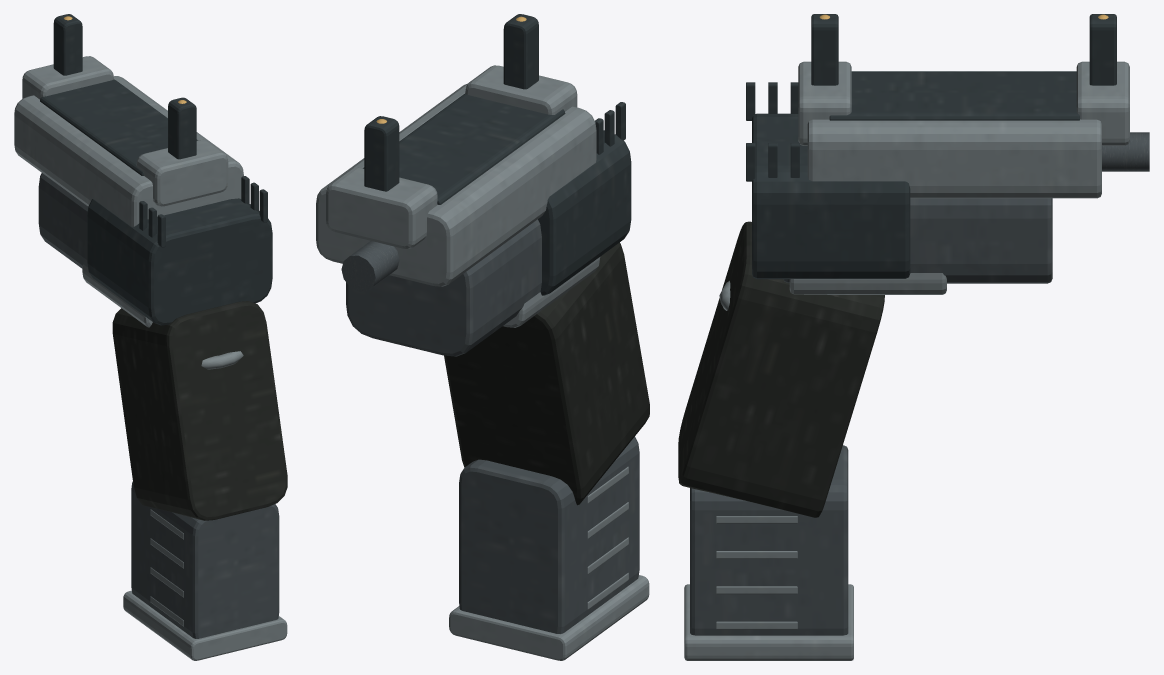
File: glock.glb
3 views of the same model, side by side, from view 1: azimuth 30°, elevation 25°; view 2: azimuth 150°, elevation 25°; view 3: azimuth 270°, elevation 25° (orthographic). The views are drawn at different scales.
Parts seen in each view (by area): view 1: first-person-glock; view 2: first-person-glock; view 3: first-person-glock.
Part boxes in pixels (x1=…): first-person-glock: x1=14, y1=14, x2=287, y2=660; first-person-glock: x1=316, y1=14, x2=649, y2=660; first-person-glock: x1=678, y1=14, x2=1149, y2=660.
Bounding box in the file's own units: 0.281 × 1.11 × 0.7621.
Materials: 5 (4 with a texture image).
